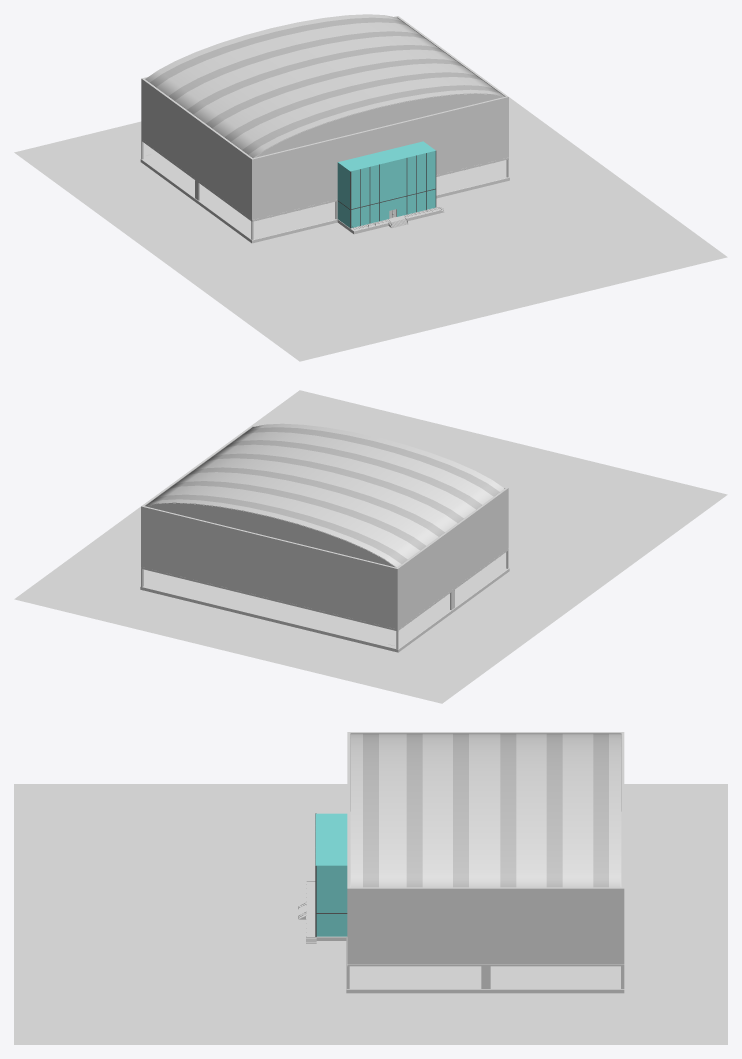
File: Bodega.fbx
3 views of the same model, one above another, from view 1: azimuth 30°, elevation 25°; view 2: azimuth 150°, elevation 25°; view 3: azimuth 270°, elevation 25° (orthographic). The views are drawn at different scales.
Visible parts, largest first — view 1: Terreno_bodega, TECHO_DOMO, PANEL_BLANCO, BODEGA_LOBBY.004, PISO_BODEGA, LATERAL_TECHO_DOMO, 03; view 2: Terreno_bodega, TECHO_DOMO, PANEL_BLANCO, PISO_BODEGA, LATERAL_TECHO_DOMO.002, 03; view 3: Terreno_bodega, TECHO_DOMO, PANEL_BLANCO, PISO_BODEGA, BODEGA_LOBBY.004, 03.
Boxes of the visible parts, x1=… form: Terreno_bodega: x1=14, y1=97, x2=727, y2=361; TECHO_DOMO: x1=145, y1=14, x2=504, y2=158; PANEL_BLANCO: x1=141, y1=16, x2=508, y2=219; BODEGA_LOBBY.004: x1=337, y1=141, x2=436, y2=228; PISO_BODEGA: x1=140, y1=154, x2=509, y2=243; LATERAL_TECHO_DOMO: x1=254, y1=93, x2=503, y2=157; 03: x1=141, y1=139, x2=508, y2=221; Terreno_bodega: x1=14, y1=390, x2=727, y2=703; TECHO_DOMO: x1=145, y1=423, x2=504, y2=567; PANEL_BLANCO: x1=141, y1=425, x2=508, y2=629; PISO_BODEGA: x1=140, y1=563, x2=509, y2=652; LATERAL_TECHO_DOMO.002: x1=146, y1=503, x2=395, y2=567; 03: x1=141, y1=548, x2=508, y2=631; Terreno_bodega: x1=14, y1=784, x2=727, y2=1044; TECHO_DOMO: x1=351, y1=733, x2=620, y2=887; PANEL_BLANCO: x1=347, y1=732, x2=624, y2=963; PISO_BODEGA: x1=306, y1=832, x2=624, y2=993; BODEGA_LOBBY.004: x1=315, y1=813, x2=347, y2=936; 03: x1=347, y1=809, x2=624, y2=966.
Bounding box in the file's own units: 16722 × 3862 × 19334.
